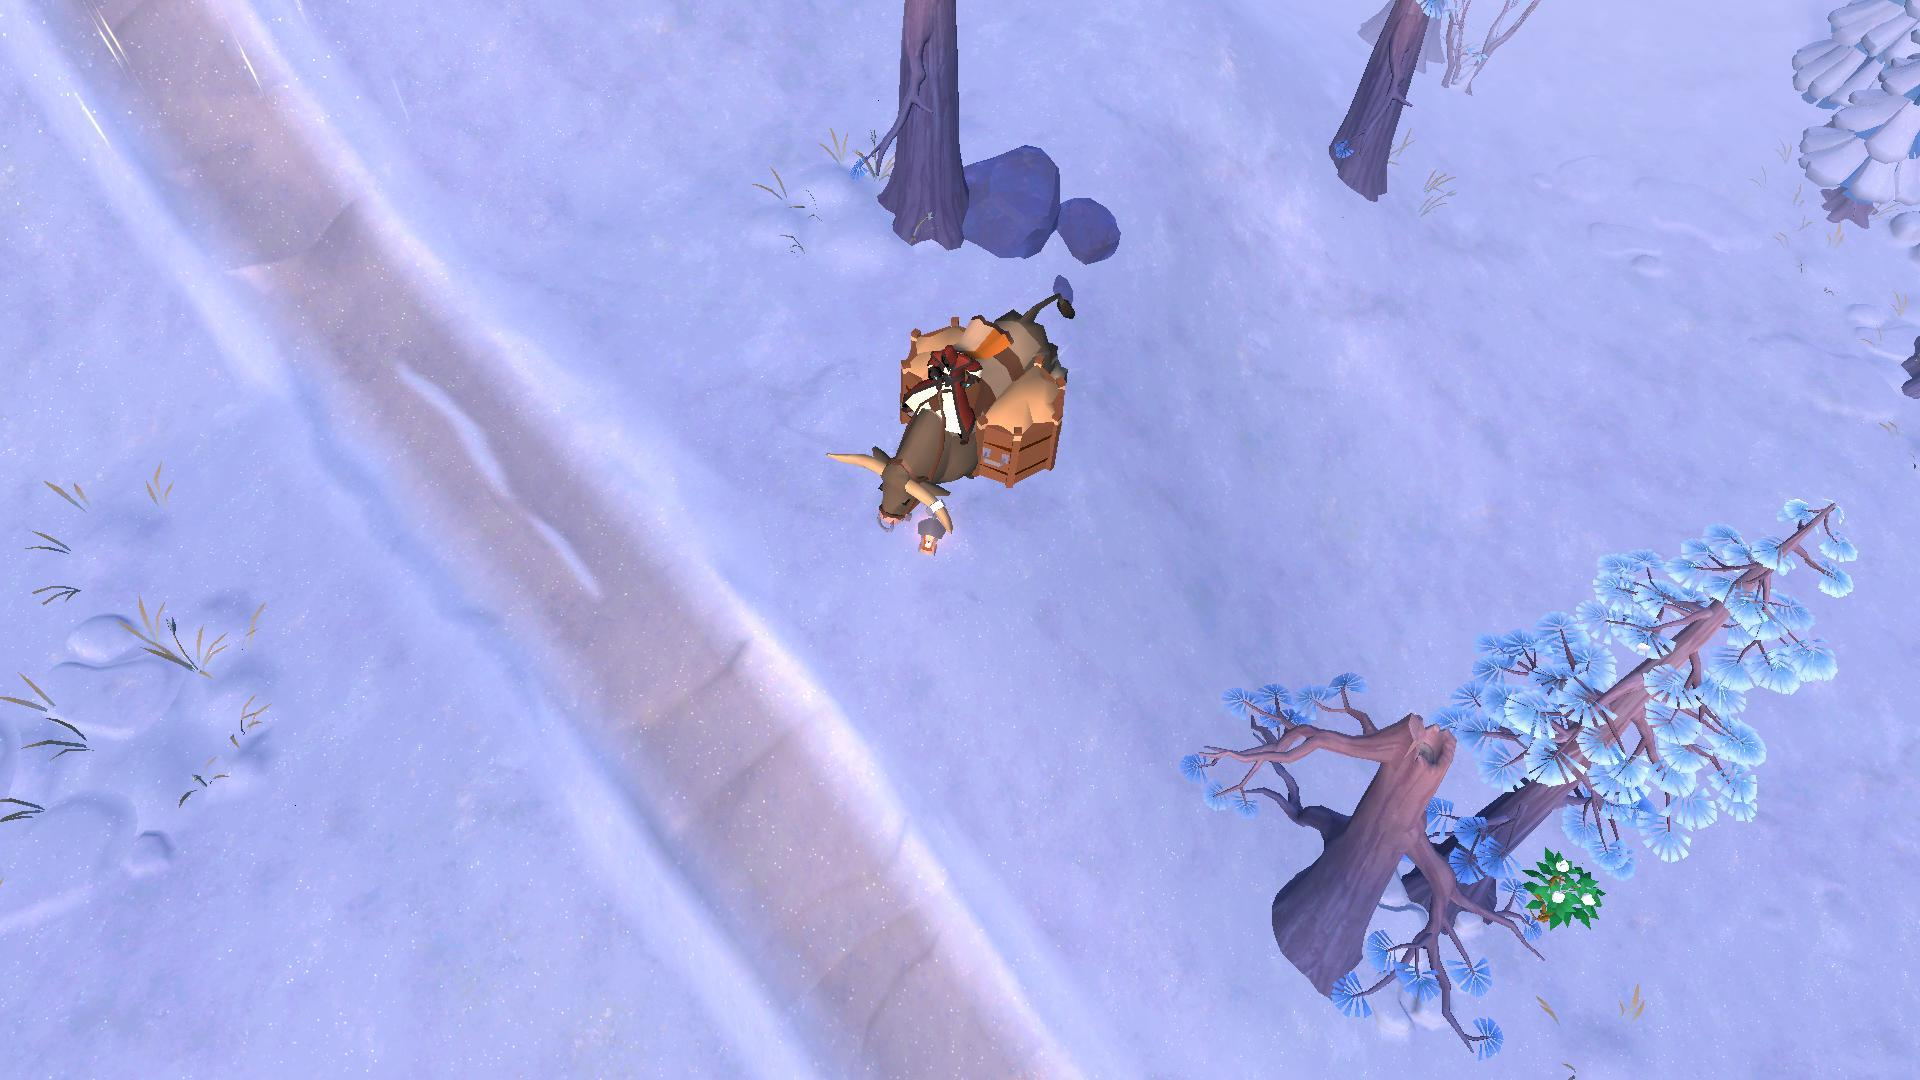fiber_t3: (1519, 840, 1609, 930)
